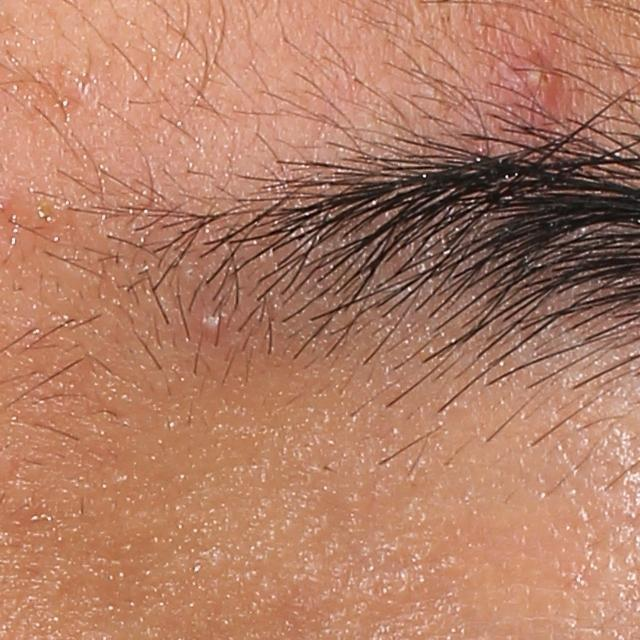pustule: (198, 310, 228, 346)
